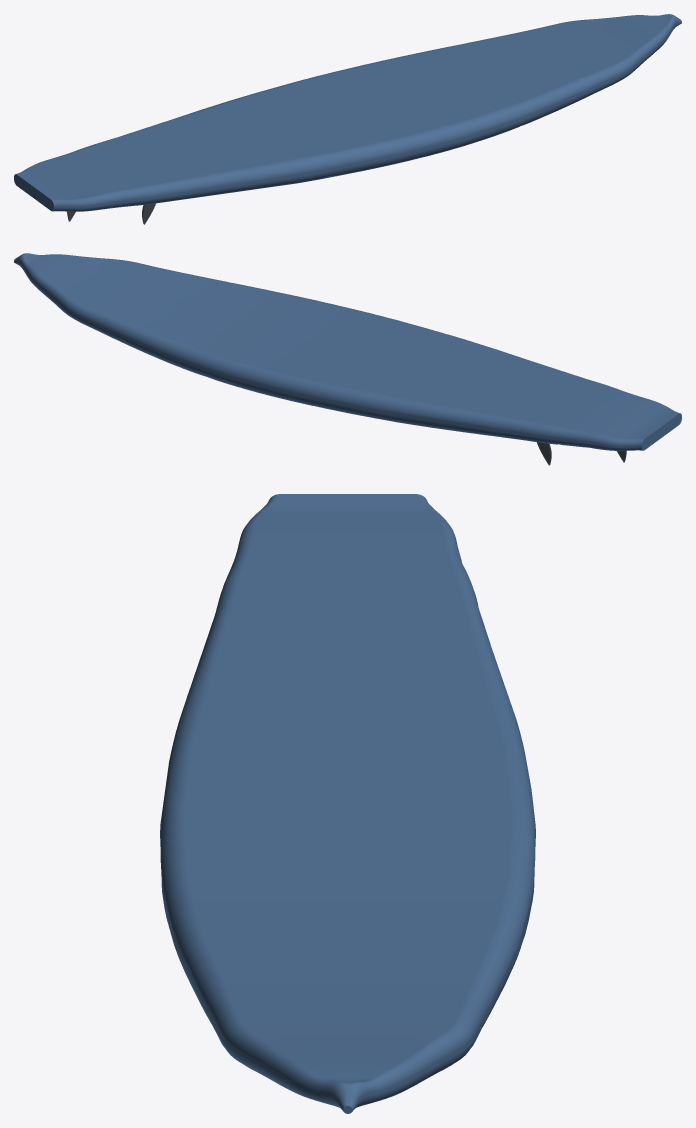
3 views of the same model, one above another, from view 1: azimuth 30°, elevation 25°; view 2: azimuth 150°, elevation 25°; view 3: azimuth 270°, elevation 25° (orthographic). The views are drawn at different scales.
Visible parts, largest first — view 1: body.1; view 2: body.1; view 3: body.1.
Part boxes in pixels (x1,y1,x2,y2): body.1: [14, 14, 681, 211]; body.1: [14, 253, 681, 450]; body.1: [160, 494, 535, 1113].
Size of the model in its own units: 2.29 by 0.2043 by 0.5754.
